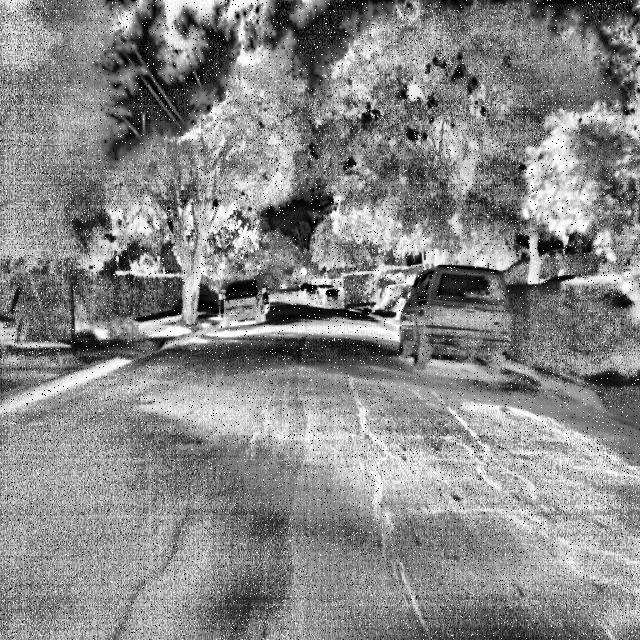car: (390, 251, 502, 372), (220, 265, 277, 340), (302, 270, 345, 316), (292, 275, 322, 306)
